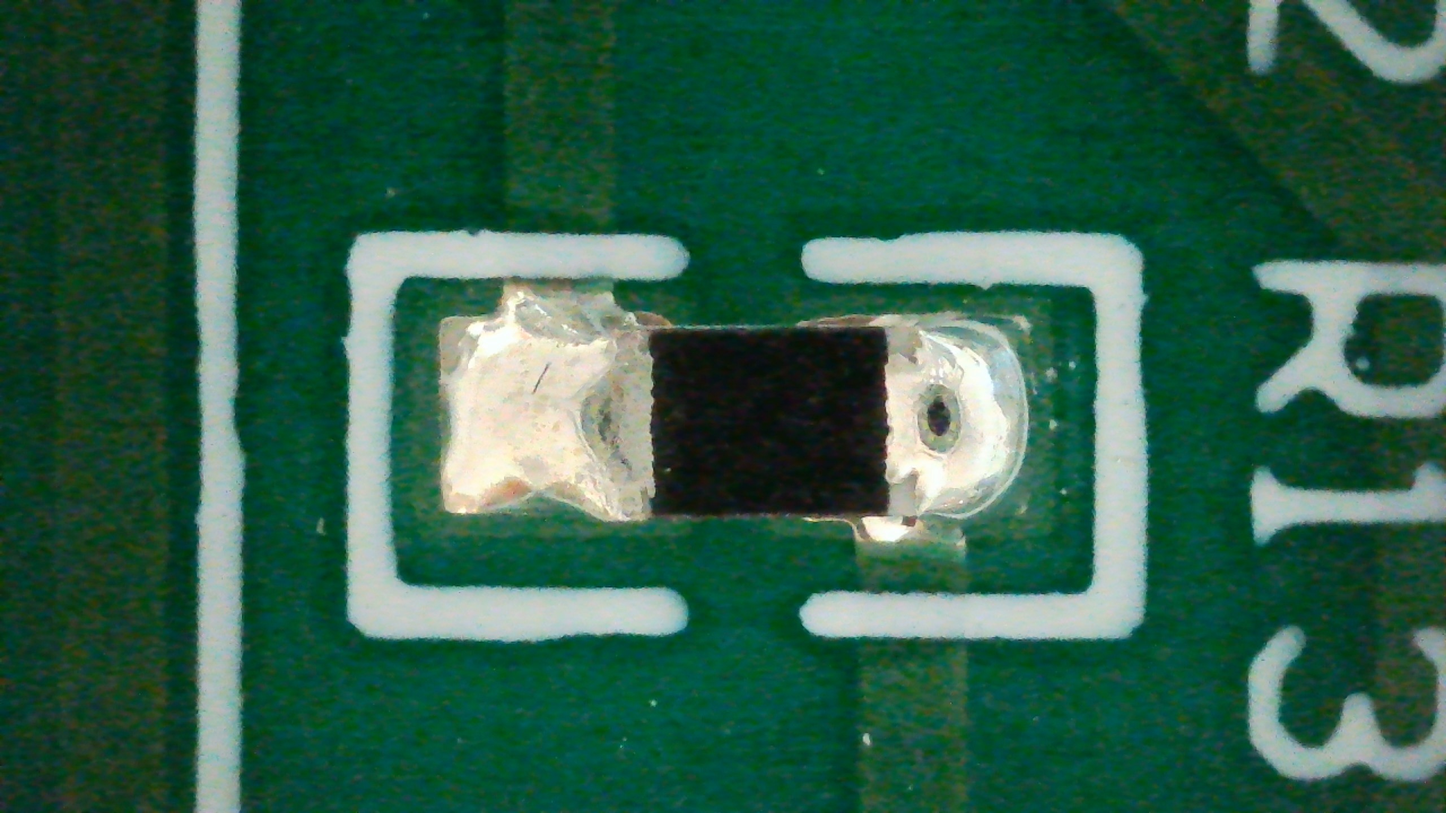OK: (440, 283, 1027, 543)
